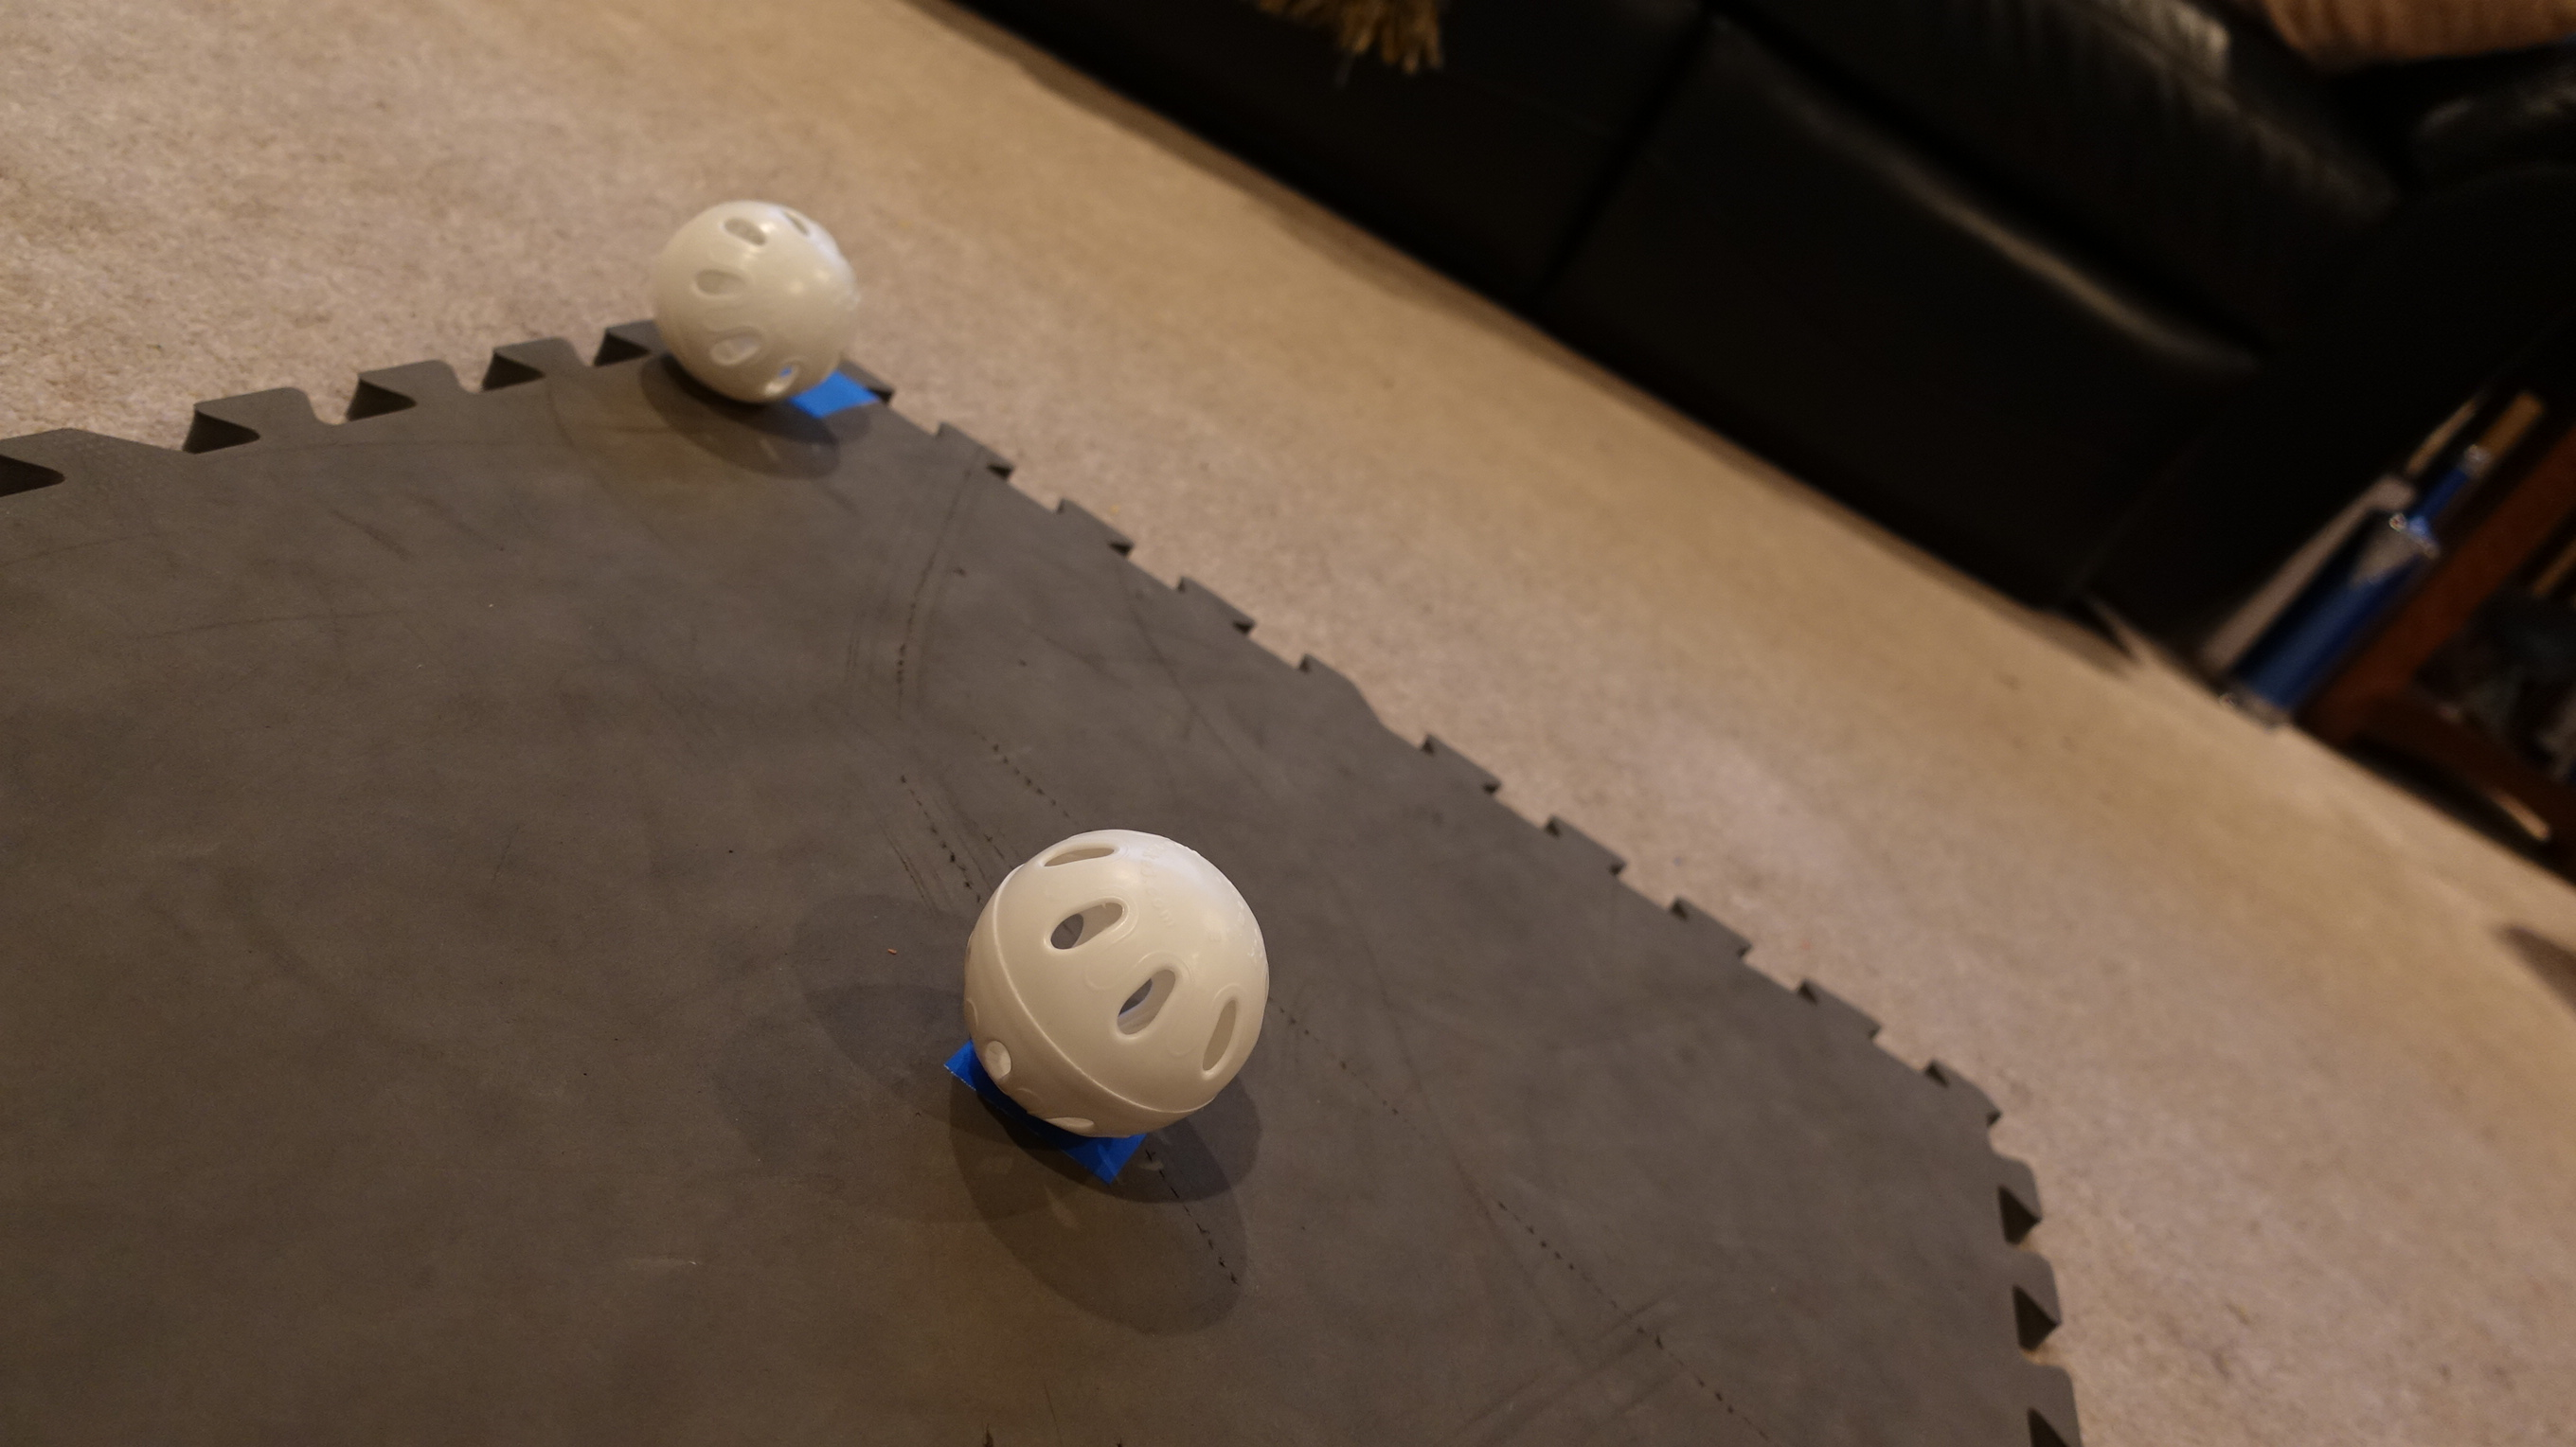silver: (947, 803, 1274, 1155), (649, 193, 870, 416)
